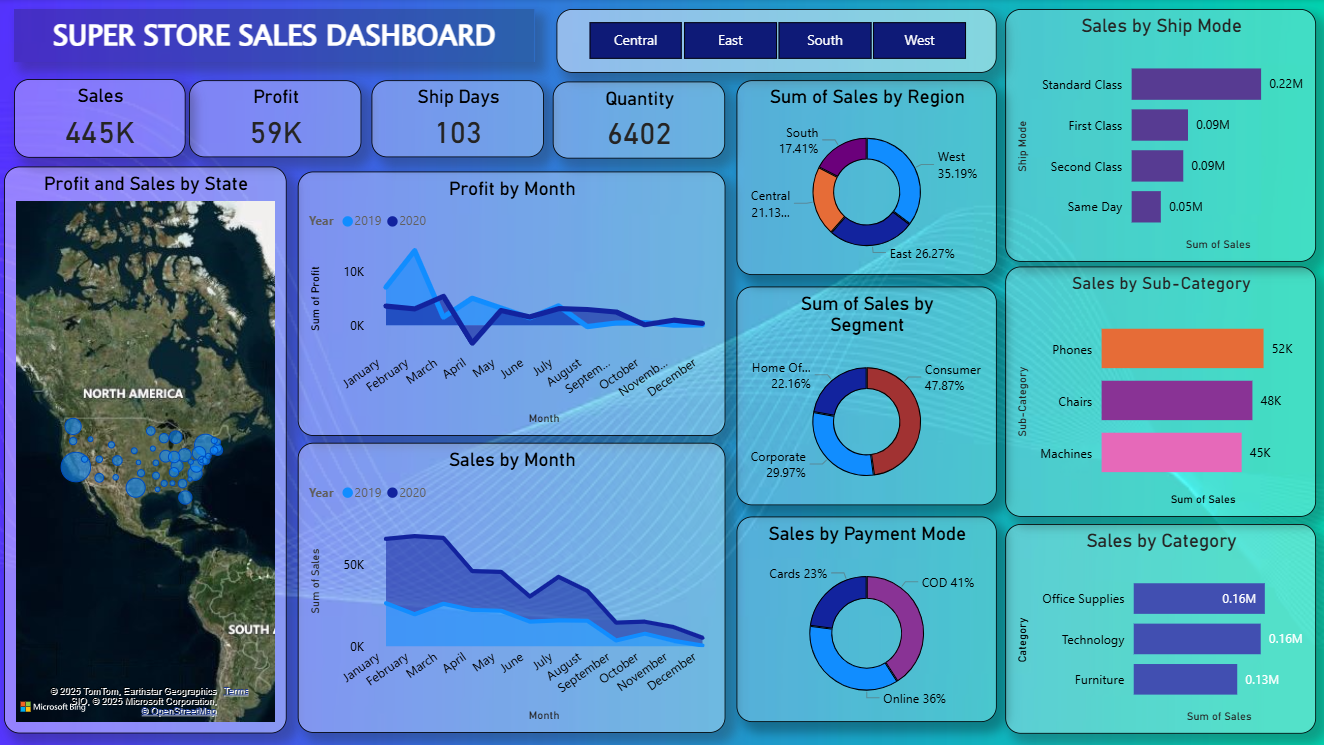

The page's visual inventory and layout, read from the dashboard file:
{"tool":"powerbi","page":{"name":"Page 1","canvas":[1280,720],"ordinal":0},"visuals":[{"type":"clusteredBarChart","title":"Sales by Category","fields":{"Category":["SuperStore_Sales_Dataset.Category"],"Y":["Sum(SuperStore_Sales_Dataset.Sales)"]},"box":[971.2,506.2,300,202.5],"z":0},{"type":"clusteredBarChart","title":" Sales by Sub-Category","fields":{"Y":["Sum(SuperStore_Sales_Dataset.Sales)"],"Category":["SuperStore_Sales_Dataset.Sub-Category"]},"box":[971.2,258.8,300,241.2],"z":1000},{"type":"clusteredBarChart","title":" Sales by Ship Mode","fields":{"Y":["Sum(SuperStore_Sales_Dataset.Sales)"],"Category":["SuperStore_Sales_Dataset.Ship Mode"]},"box":[971.2,10,300,243.8],"z":2000},{"type":"areaChart","title":"Profit by Month","fields":{"Category":["SuperStore_Sales_Dataset.Order Date.Variation.Date Hierarchy.Month"],"Series":["SuperStore_Sales_Dataset.Order Date.Variation.Date Hierarchy.Year"],"Y":["Sum(SuperStore_Sales_Dataset.Profit)"]},"box":[288.8,166.2,412.5,255],"z":3000},{"type":"map","title":"Profit and Sales by State","fields":{"Category":["SuperStore_Sales_Dataset.State"],"Size":["Sum(SuperStore_Sales_Dataset.Sales)"]},"box":[5,161.2,272.5,547.5],"z":4000},{"type":"donutChart","fields":{"Category":["SuperStore_Sales_Dataset.Segment"],"Y":["Sum(SuperStore_Sales_Dataset.Sales)"]},"box":[711.8,277.5,250.9,211.1],"z":5000},{"type":"donutChart","title":"Sales by Payment Mode","fields":{"Y":["Sum(SuperStore_Sales_Dataset.Sales)"],"Category":["SuperStore_Sales_Dataset.Payment Mode"]},"box":[711.8,499.5,250.9,198],"z":6000},{"type":"slicer","fields":{"Values":["SuperStore_Sales_Dataset.Region"]},"box":[537.5,10,425,61.2],"z":7000},{"type":"textbox","box":[15,10,502.5,51.2],"z":8000},{"type":"card","title":"Profit","fields":{"Values":["Sum(SuperStore_Sales_Dataset.Profit)"]},"box":[183.4,78.4,166.5,74.8],"z":9000},{"type":"card","title":"Ship Days","fields":{"Values":["Avg(SuperStore_Sales_Dataset.AvgDelivery)"]},"box":[359.5,78.4,166.5,74.8],"z":10000},{"type":"card","title":"Sales","fields":{"Values":["Sum(SuperStore_Sales_Dataset.Sales)"]},"box":[14.5,77.2,165.3,76],"z":11000},{"type":"stackedAreaChart","title":" Sales by Month","fields":{"Category":["SuperStore_Sales_Dataset.Order Date.Variation.Date Hierarchy.Month"],"Y":["Sum(SuperStore_Sales_Dataset.Sales)"],"Series":["SuperStore_Sales_Dataset.Order Date.Variation.Date Hierarchy.Year"]},"box":[288.8,428.8,412.5,280],"z":12000},{"type":"card","title":"Quantity","fields":{"Values":["Sum(SuperStore_Sales_Dataset.Quantity)"]},"box":[534.5,79.6,166.5,74.8],"z":13000},{"type":"donutChart","fields":{"Y":["Sum(SuperStore_Sales_Dataset.Sales)"],"Category":["SuperStore_Sales_Dataset.Region"]},"box":[711.8,78.4,250.9,188.2],"z":14000}]}

Visuals, with their boxes in screenshot pixels (x1, y1, x2, y2), scaled from the page's 1280x720 canvas onto the 1324x745 screenshot:
"Sales by Category" clusteredBarChart: region(1005, 524, 1315, 733)
" Sales by Sub-Category" clusteredBarChart: region(1005, 268, 1315, 517)
" Sales by Ship Mode" clusteredBarChart: region(1005, 10, 1315, 263)
"Profit by Month" areaChart: region(299, 172, 725, 436)
"Profit and Sales by State" map: region(5, 167, 287, 733)
donutChart - SuperStore_Sales_Dataset.Segment x Sum(SuperStore_Sales_Dataset.Sales): region(736, 287, 996, 506)
"Sales by Payment Mode" donutChart: region(736, 517, 996, 722)
slicer - SuperStore_Sales_Dataset.Region: region(556, 10, 996, 74)
textbox: region(16, 10, 535, 63)
"Profit" card: region(190, 81, 362, 159)
"Ship Days" card: region(372, 81, 544, 159)
"Sales" card: region(15, 80, 186, 159)
" Sales by Month" stackedAreaChart: region(299, 444, 725, 733)
"Quantity" card: region(553, 82, 725, 160)
donutChart - Sum(SuperStore_Sales_Dataset.Sales) x SuperStore_Sales_Dataset.Region: region(736, 81, 996, 276)
